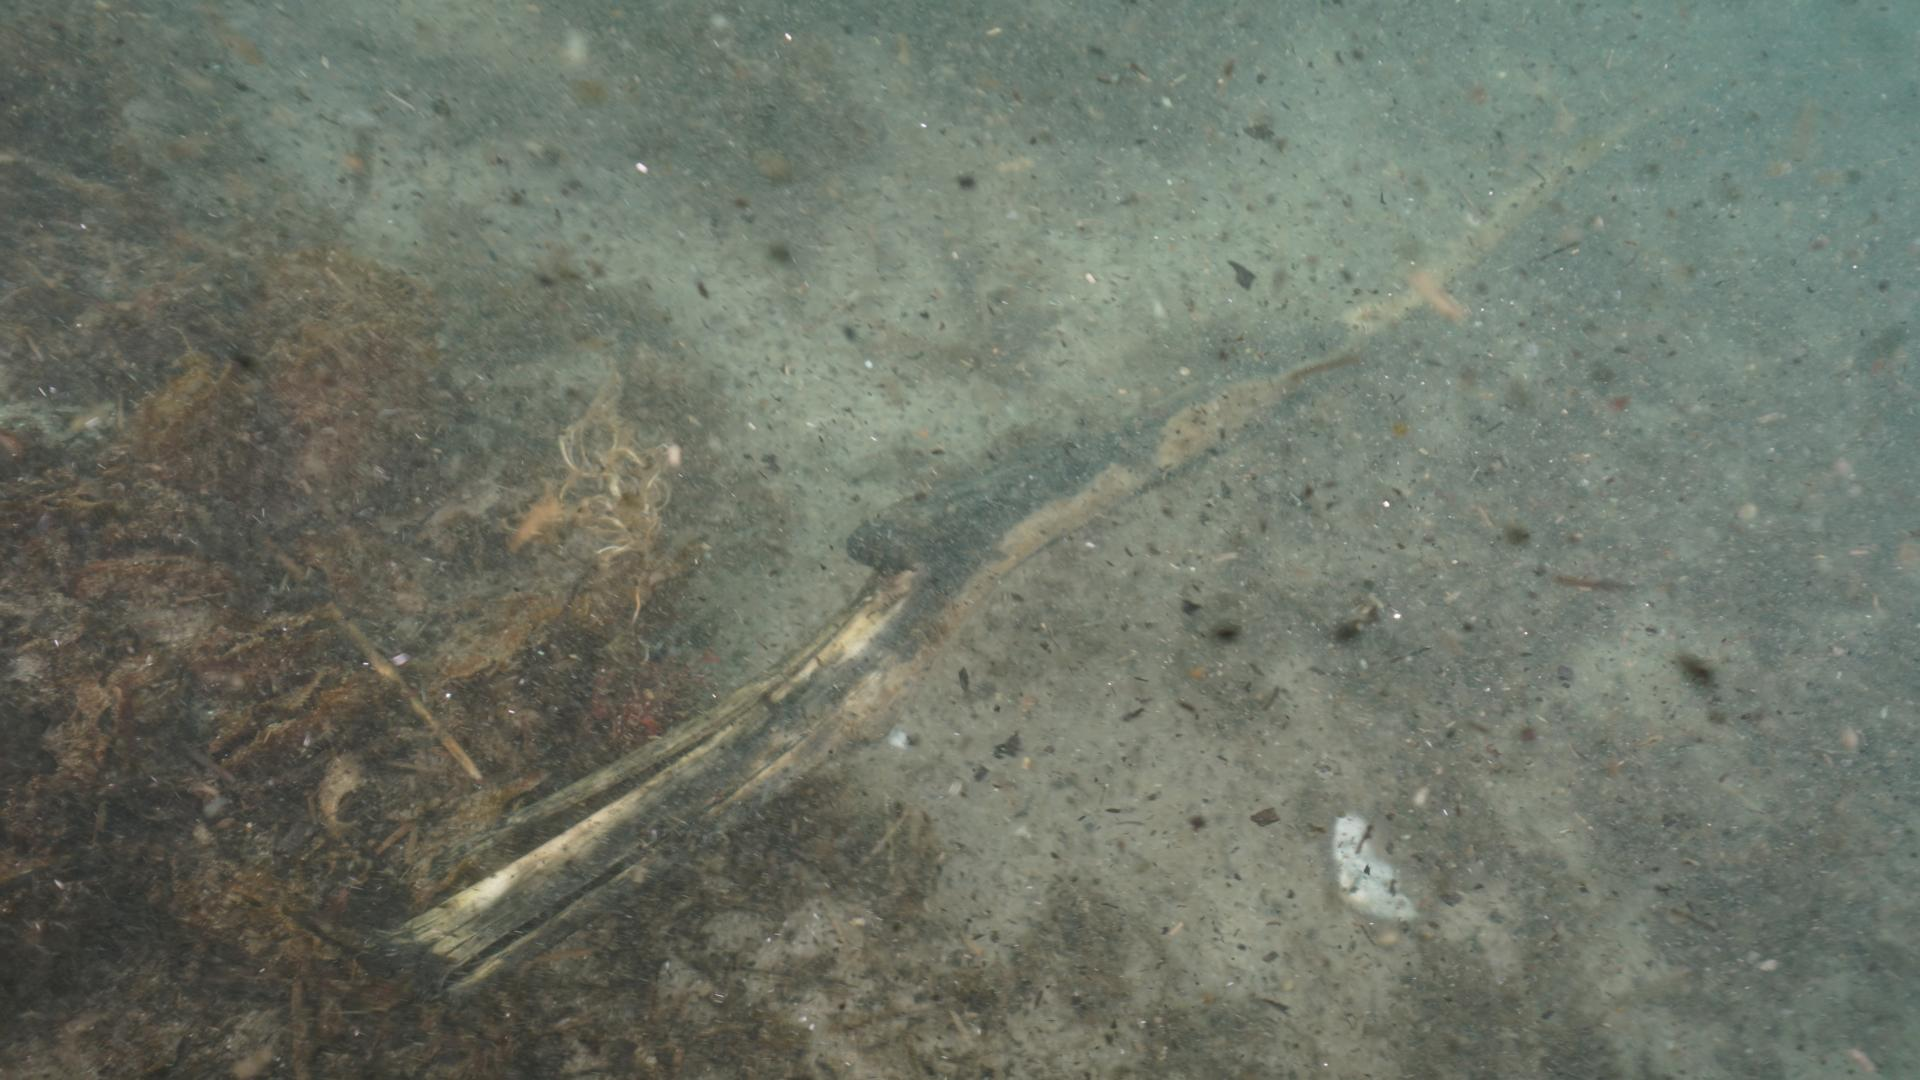wood: (389, 42, 1729, 989)
